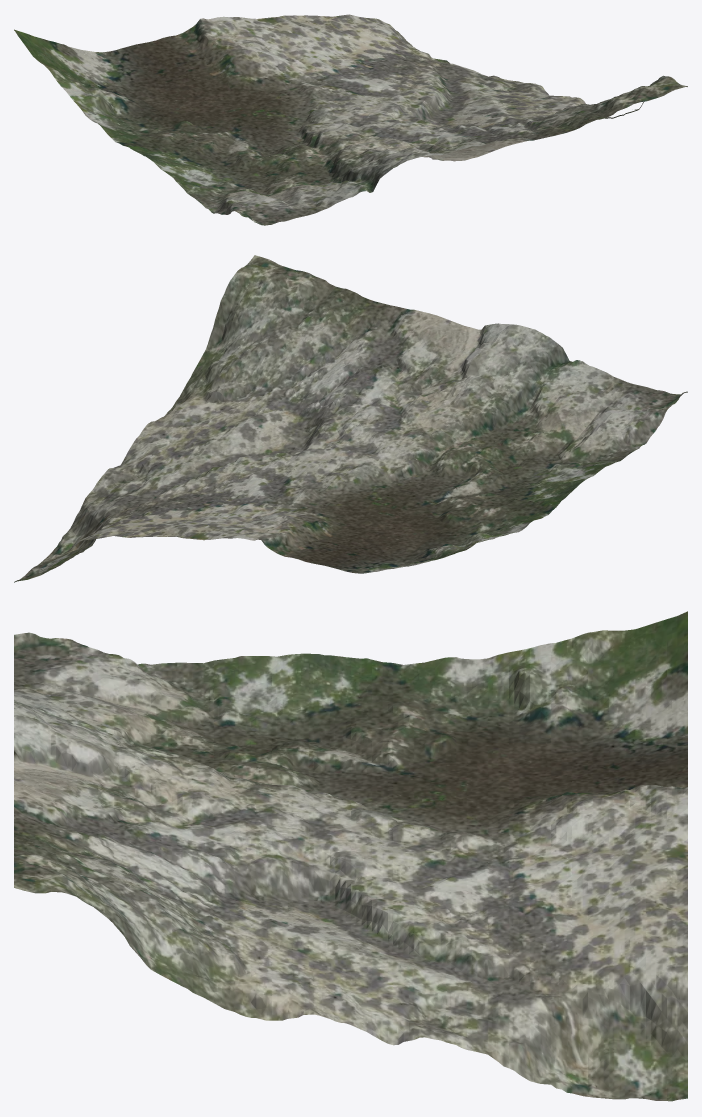
3 views of the same model, one above another, from view 1: azimuth 30°, elevation 25°; view 2: azimuth 150°, elevation 25°; view 3: azimuth 270°, elevation 25° (orthographic). The views are drawn at different scales.
Bounding box in the file's own units: 500 × 169 × 481.
1 material, 1 textured.
